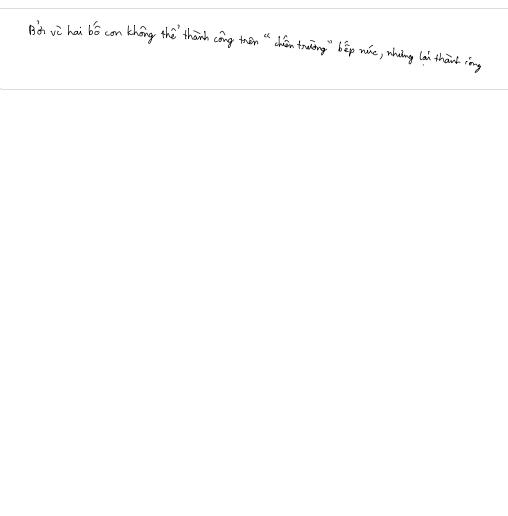text: (26, 16, 483, 77)
